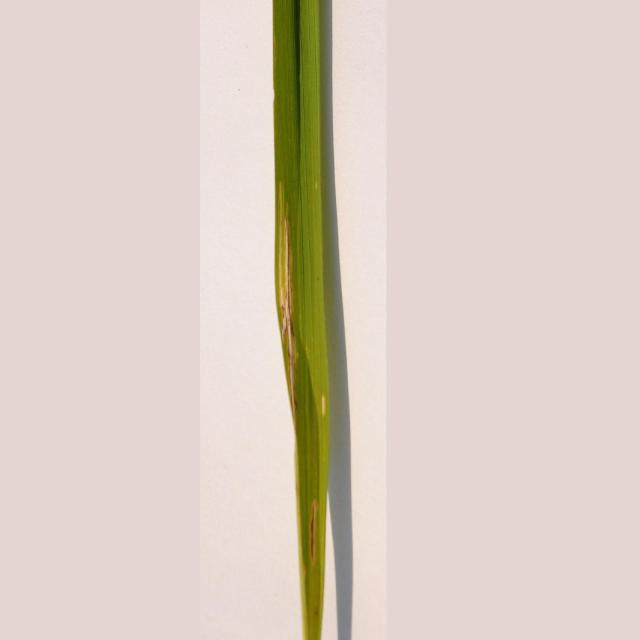Bacterial leaf blight: (196, 3, 392, 640)
